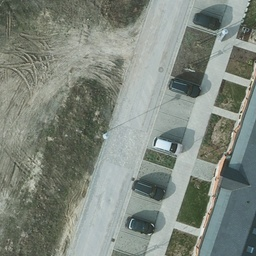car: (130, 177, 165, 200), (124, 214, 156, 237), (190, 12, 223, 33), (170, 76, 201, 97), (153, 136, 185, 156)
